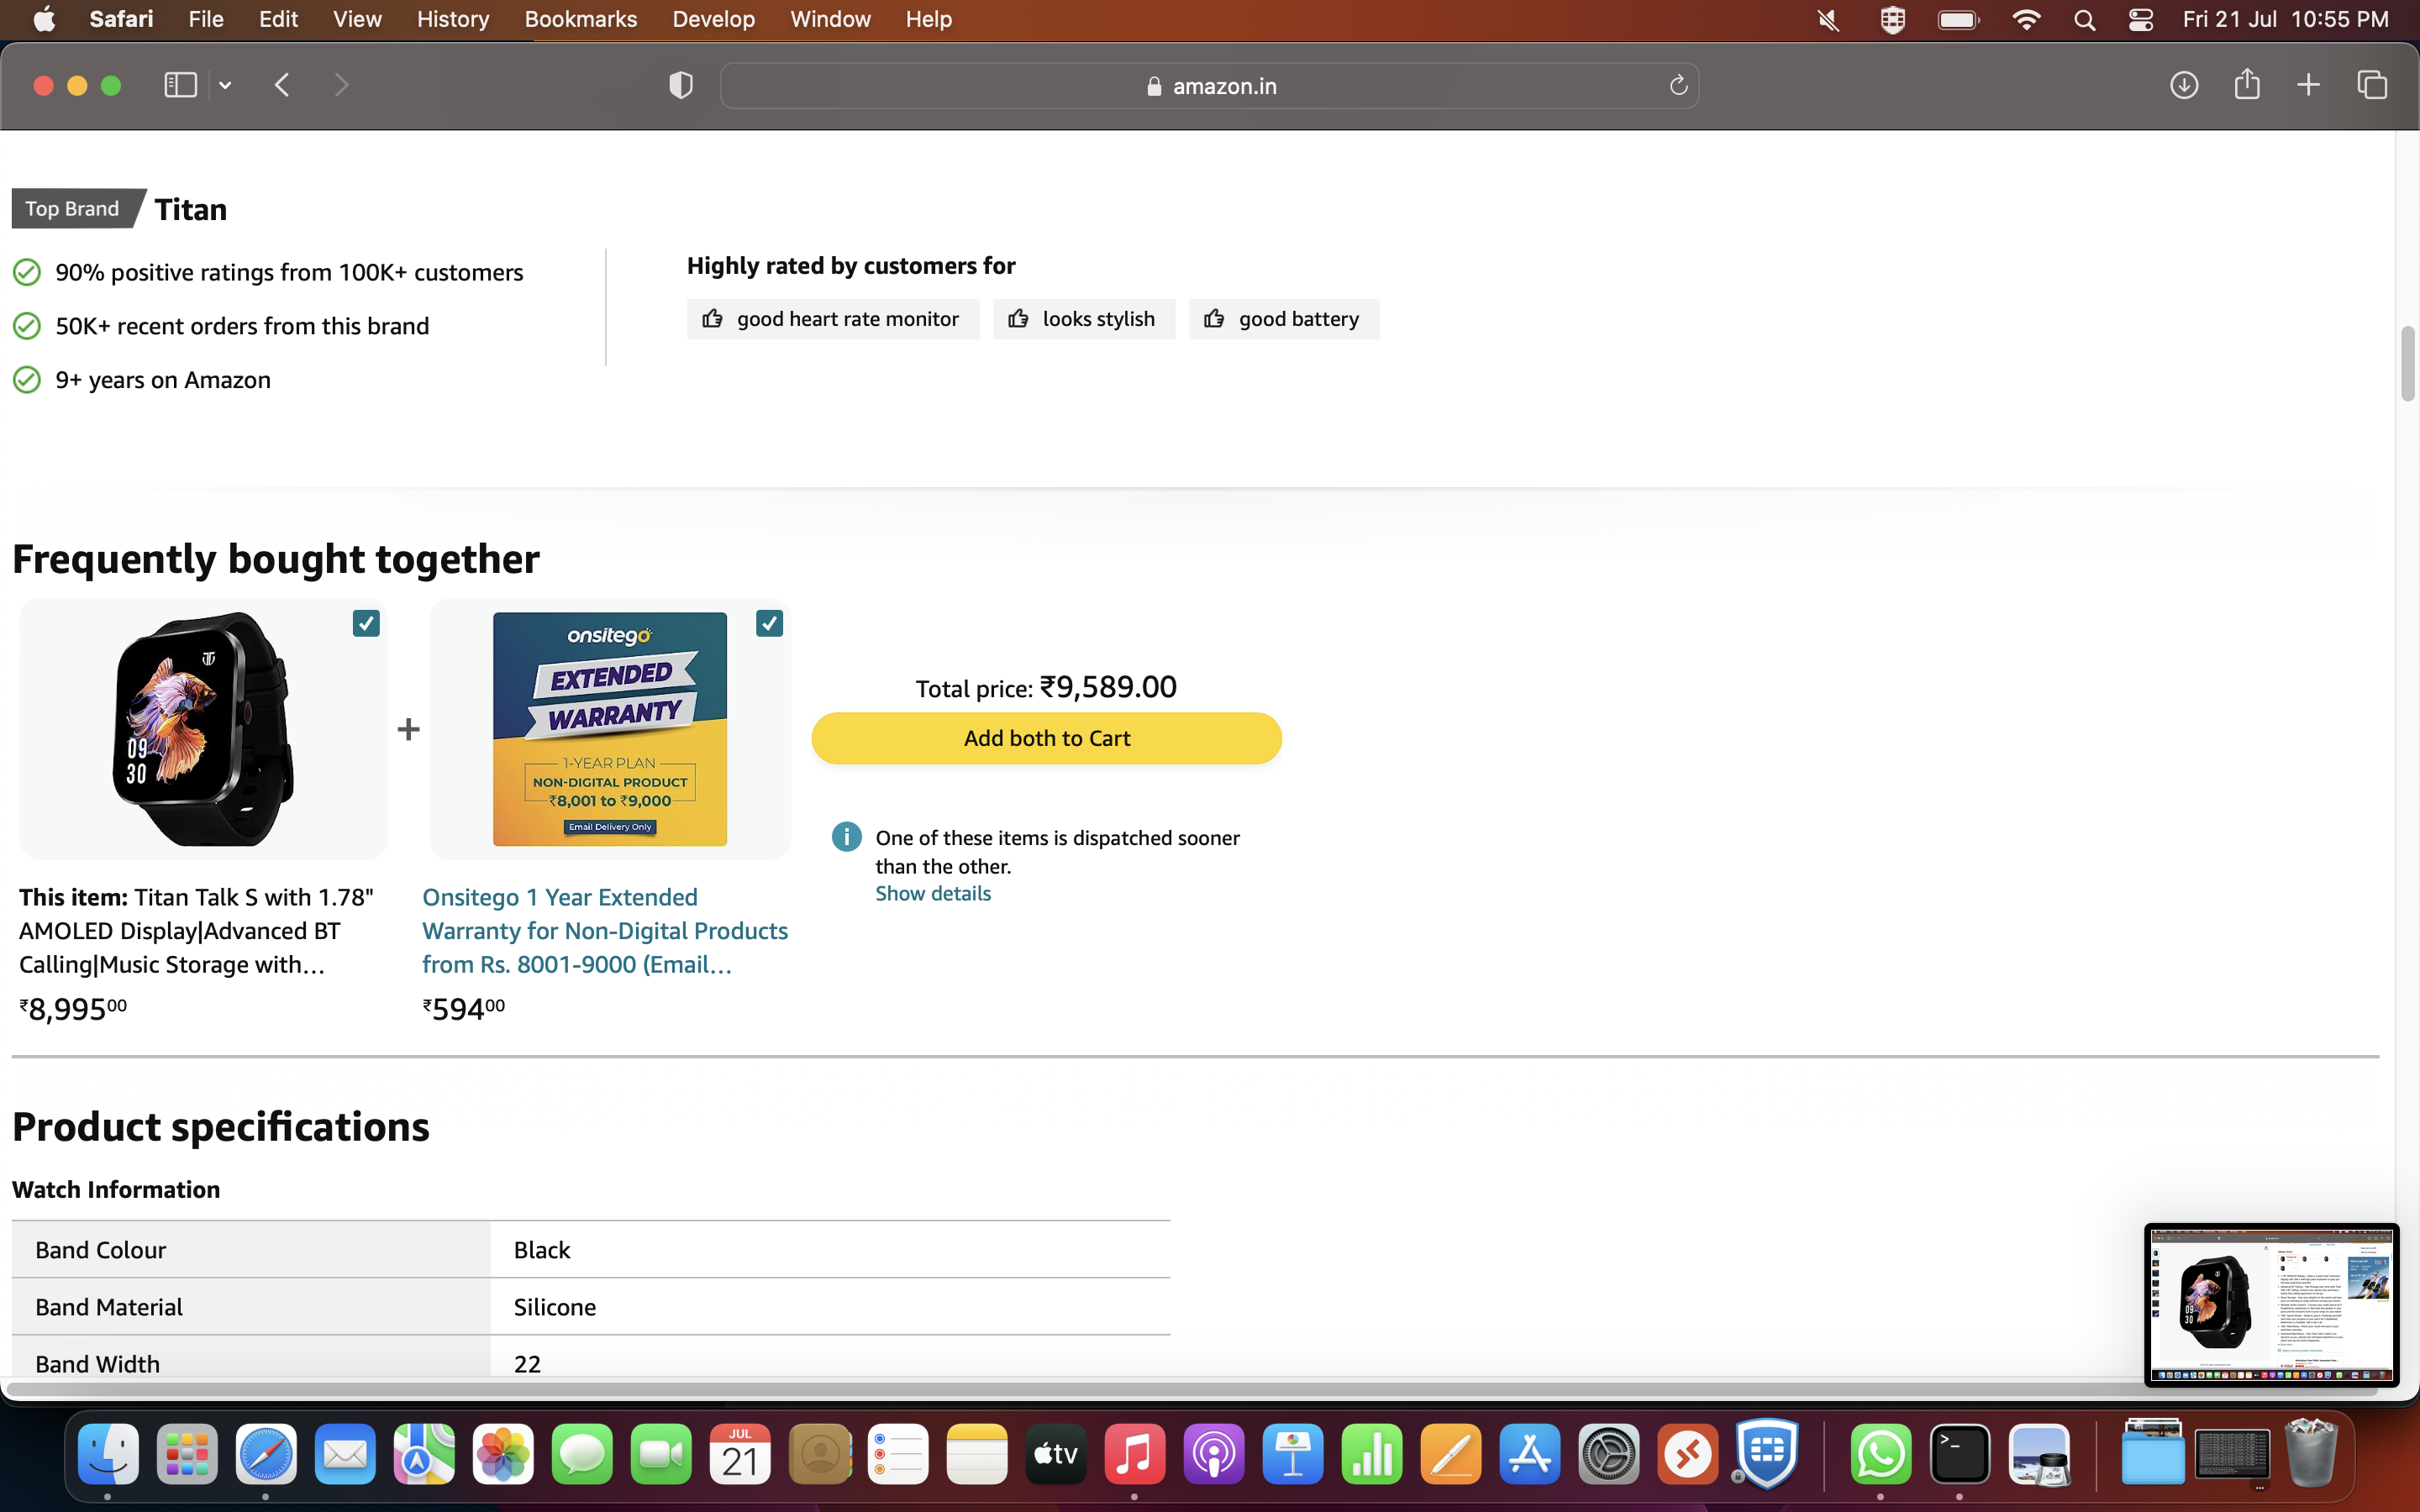Image: (87, 606, 343, 869), (479, 613, 742, 859)
Paragraph: (10, 862, 383, 986), (406, 876, 808, 986), (869, 815, 1258, 913), (10, 1092, 463, 1155), (37, 253, 552, 293), (44, 303, 446, 347), (673, 246, 1028, 289), (909, 716, 1178, 768), (902, 669, 1199, 709), (17, 1221, 190, 1282), (728, 296, 972, 336), (51, 362, 289, 402), (7, 1169, 246, 1209), (30, 1338, 183, 1392), (33, 1291, 200, 1331), (1239, 293, 1371, 343), (1028, 293, 1174, 336), (14, 991, 132, 1042), (413, 986, 526, 1035), (509, 1282, 610, 1331), (497, 1228, 599, 1272), (153, 190, 246, 233), (500, 1345, 559, 1385)
